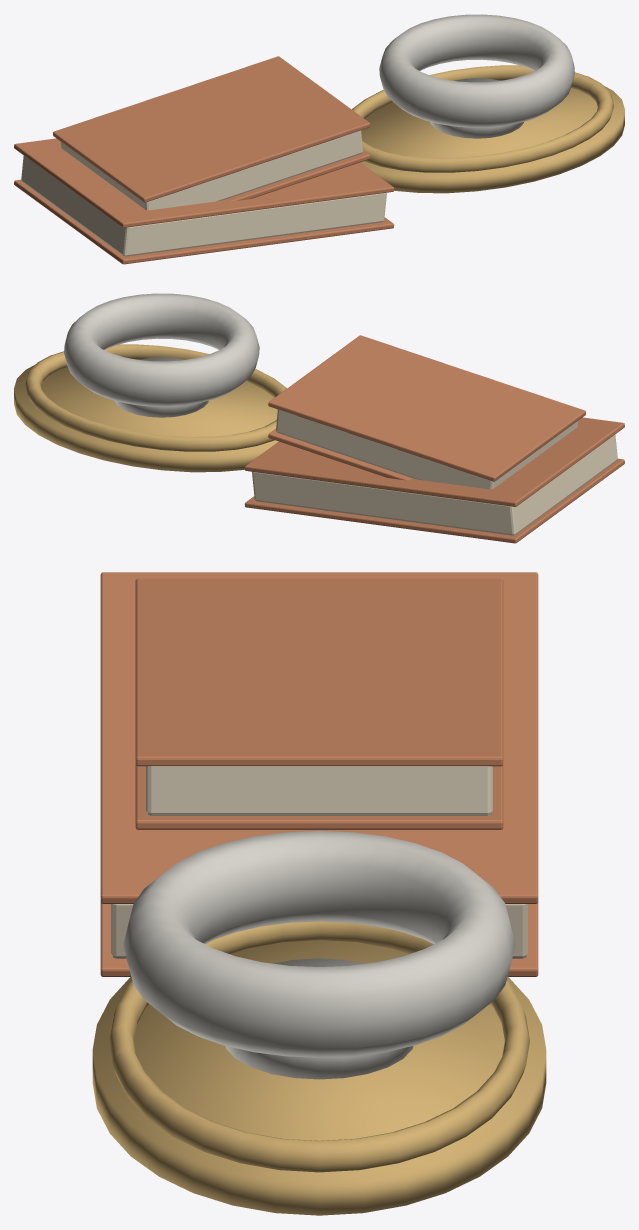
The model's file is living_table_dressing.glb.
The picture shows the model from 3 angles, top to bottom: view 1: azimuth 30°, elevation 25°; view 2: azimuth 150°, elevation 25°; view 3: azimuth 270°, elevation 25°; orthographic projection. The views are drawn at different scales.
Parts seen in each view (by area): view 1: living_dressing_table_006_book_upper_cover_1, living_dressing_table_010_sculptural_bowl, living_dressing_table_007_tray_base, living_dressing_table_001_book_lower_pages, living_dressing_table_003_book_lower_cover_1, living_dressing_table_008_tray_rim, living_dressing_table_004_book_upper_pages, living_dressing_table_002_book_lower_cover_-1, living_dressing_table_005_book_upper_cover_-1, living_dressing_table_009_bowl_foot; view 2: living_dressing_table_006_book_upper_cover_1, living_dressing_table_010_sculptural_bowl, living_dressing_table_007_tray_base, living_dressing_table_001_book_lower_pages, living_dressing_table_003_book_lower_cover_1, living_dressing_table_008_tray_rim, living_dressing_table_004_book_upper_pages, living_dressing_table_002_book_lower_cover_-1, living_dressing_table_005_book_upper_cover_-1, living_dressing_table_009_bowl_foot; view 3: living_dressing_table_006_book_upper_cover_1, living_dressing_table_010_sculptural_bowl, living_dressing_table_007_tray_base, living_dressing_table_003_book_lower_cover_1, living_dressing_table_008_tray_rim, living_dressing_table_004_book_upper_pages, living_dressing_table_005_book_upper_cover_-1, living_dressing_table_009_bowl_foot, living_dressing_table_002_book_lower_cover_-1, living_dressing_table_001_book_lower_pages.
Part boxes in pixels (x1,y1,x2,y2): living_dressing_table_006_book_upper_cover_1: [53, 56, 370, 202]; living_dressing_table_010_sculptural_bowl: [379, 14, 574, 127]; living_dressing_table_007_tray_base: [360, 80, 624, 193]; living_dressing_table_001_book_lower_pages: [21, 155, 386, 256]; living_dressing_table_003_book_lower_cover_1: [14, 138, 394, 227]; living_dressing_table_008_tray_rim: [352, 65, 614, 172]; living_dressing_table_004_book_upper_pages: [60, 130, 362, 210]; living_dressing_table_002_book_lower_cover_-1: [14, 179, 394, 264]; living_dressing_table_005_book_upper_cover_-1: [226, 149, 370, 201]; living_dressing_table_009_bowl_foot: [430, 78, 523, 138]; living_dressing_table_006_book_upper_cover_1: [268, 335, 585, 481]; living_dressing_table_010_sculptural_bowl: [64, 293, 259, 406]; living_dressing_table_007_tray_base: [14, 359, 278, 472]; living_dressing_table_001_book_lower_pages: [252, 434, 617, 535]; living_dressing_table_003_book_lower_cover_1: [244, 417, 624, 506]; living_dressing_table_008_tray_rim: [24, 344, 286, 451]; living_dressing_table_004_book_upper_pages: [276, 409, 578, 489]; living_dressing_table_002_book_lower_cover_-1: [244, 458, 624, 543]; living_dressing_table_005_book_upper_cover_-1: [268, 428, 412, 480]; living_dressing_table_009_bowl_foot: [115, 357, 208, 417]; living_dressing_table_006_book_upper_cover_1: [135, 578, 503, 766]; living_dressing_table_010_sculptural_bowl: [123, 831, 515, 1057]; living_dressing_table_007_tray_base: [92, 940, 546, 1215]; living_dressing_table_003_book_lower_cover_1: [100, 572, 538, 903]; living_dressing_table_008_tray_rim: [109, 921, 529, 1172]; living_dressing_table_004_book_upper_pages: [146, 766, 492, 815]; living_dressing_table_005_book_upper_cover_-1: [135, 765, 503, 829]; living_dressing_table_009_bowl_foot: [225, 958, 413, 1079]; living_dressing_table_002_book_lower_cover_-1: [100, 902, 538, 976]; living_dressing_table_001_book_lower_pages: [111, 904, 527, 958].
Bounding box in the file's own units: 0.7192 × 0.1313 × 0.2592.
